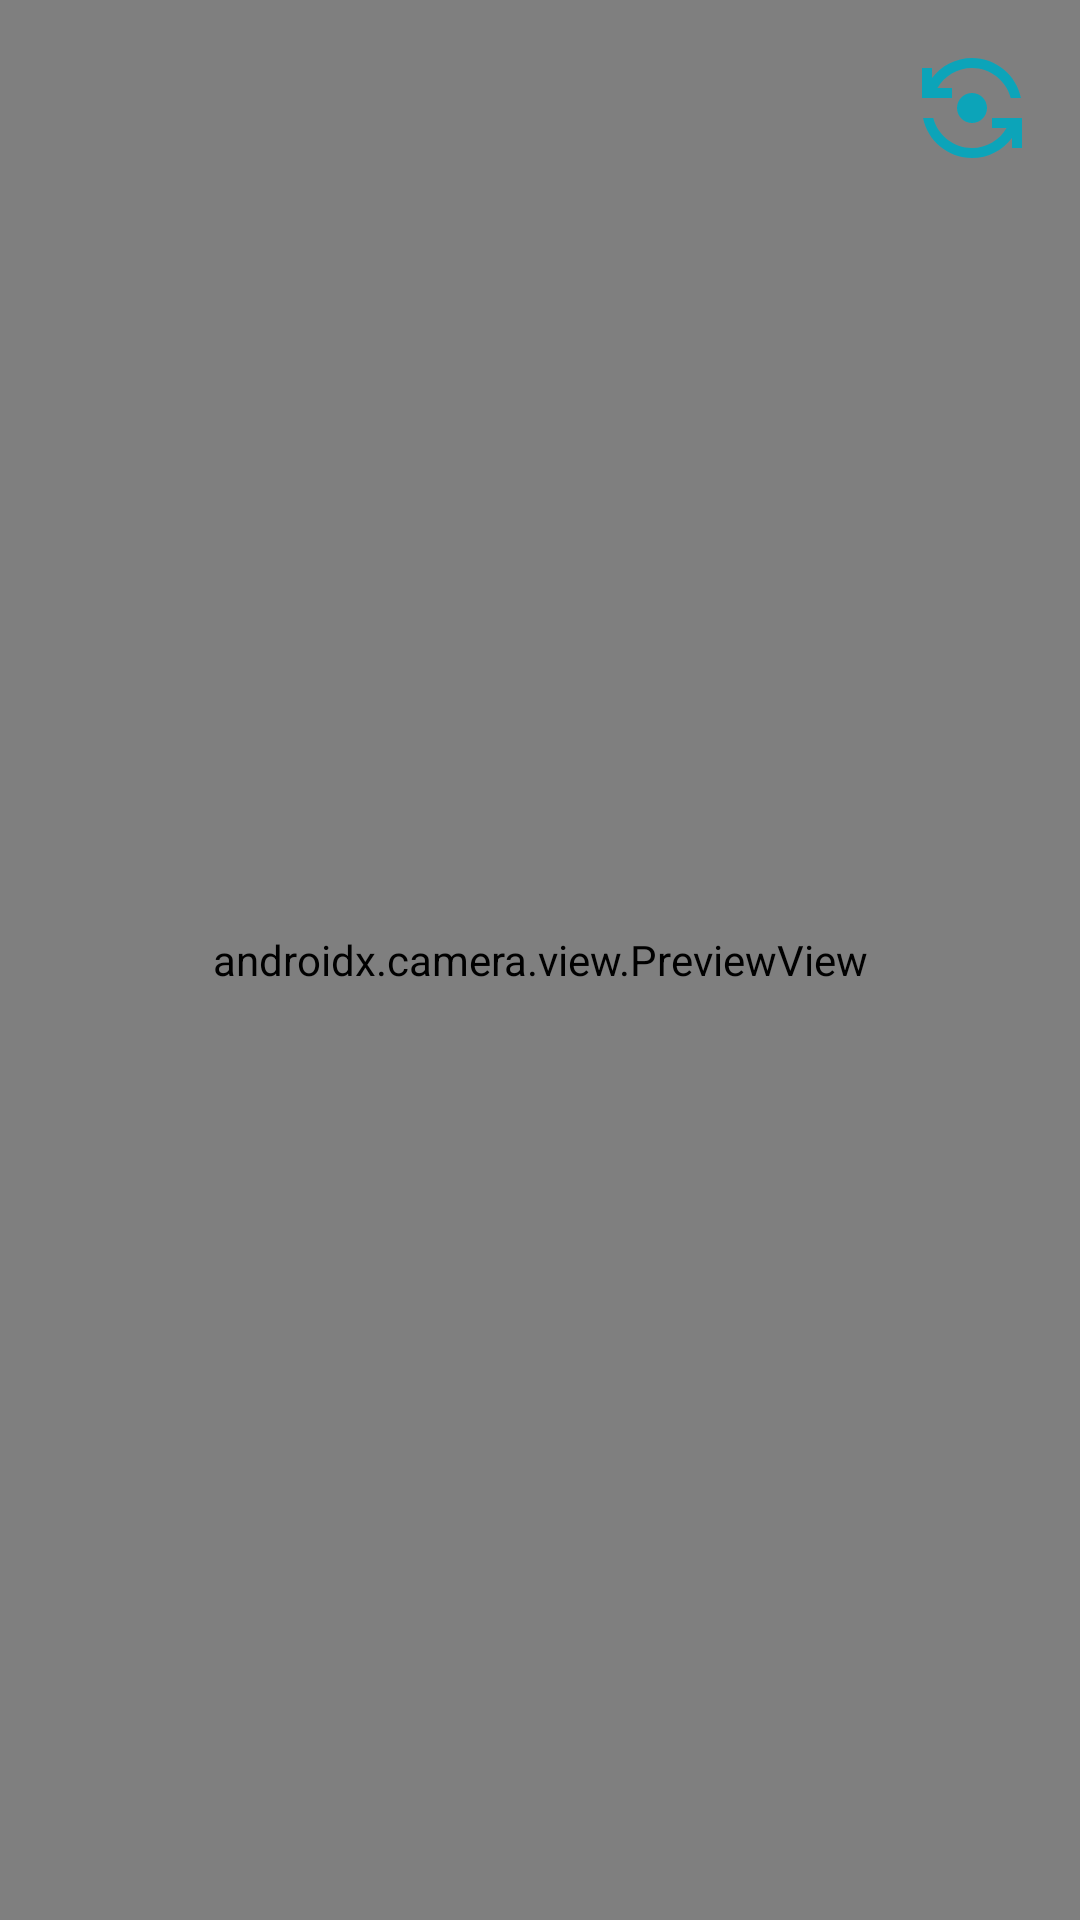

Point at icon controls on the screen. Image size 1080x1920, points as (x,y).
flip camera android: (972,108)
